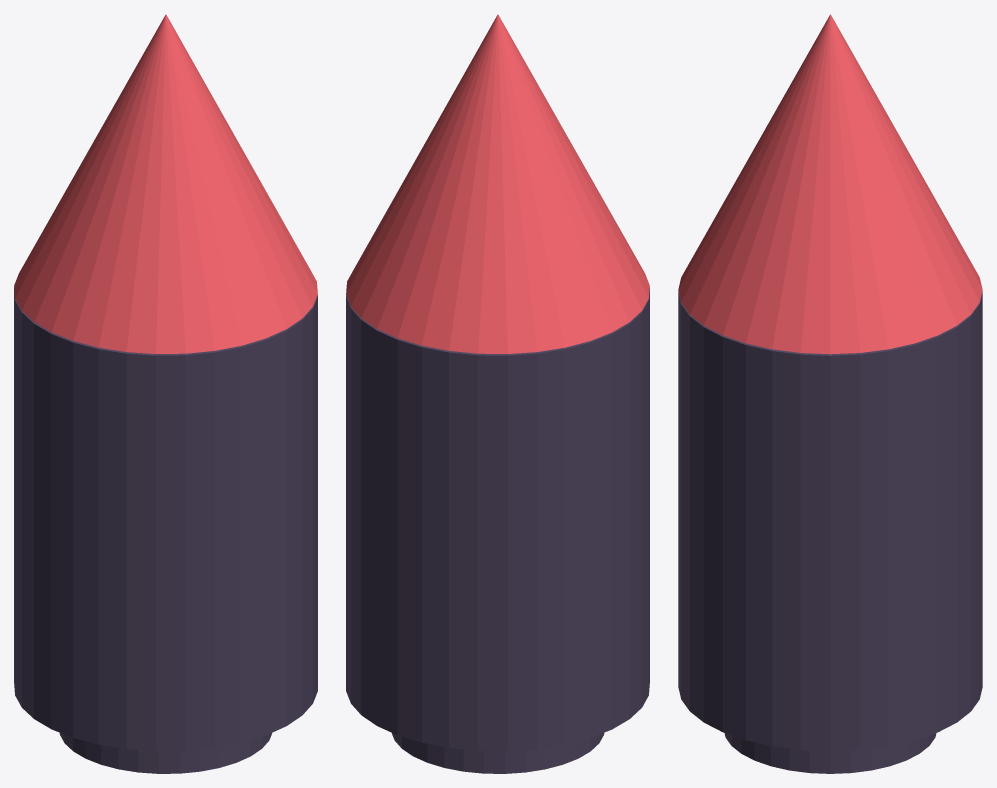
Rendered from rackete.fbx.
3 renders of one model, left to right at view 1: azimuth 30°, elevation 25°; view 2: azimuth 150°, elevation 25°; view 3: azimuth 270°, elevation 25°, orthographic.
Parts seen in each view (by area): view 1: Cylinder; view 2: Cylinder; view 3: Cylinder.
Boxes of the visible parts, box(x1,y1,x2,y2) form: Cylinder: box(14, 14, 317, 773); Cylinder: box(346, 14, 649, 773); Cylinder: box(678, 14, 982, 773).
Bounding box in the file's own units: 200 × 200 × 518.
